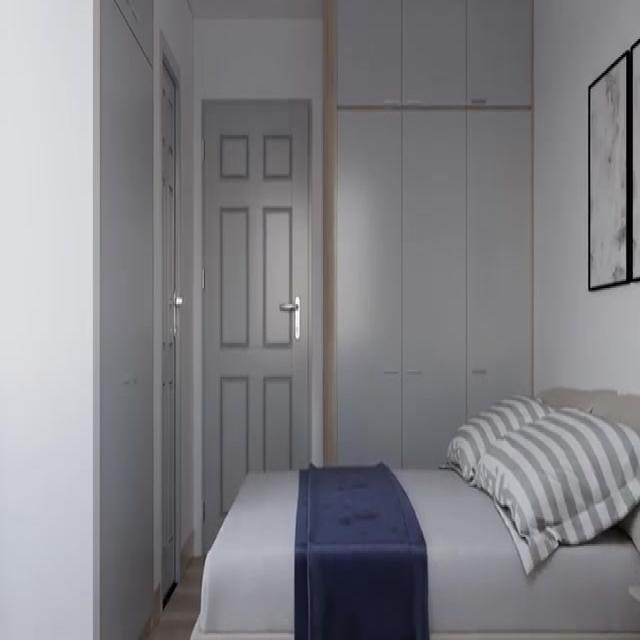door: (201, 96, 309, 556), (160, 39, 184, 613)
obstacle: (189, 384, 639, 638)
